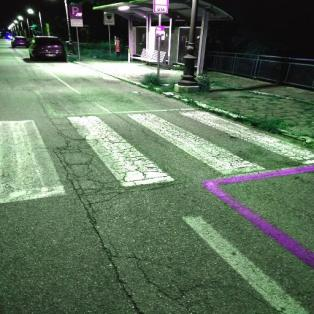Paso de Cebra: (59, 102, 270, 197)
